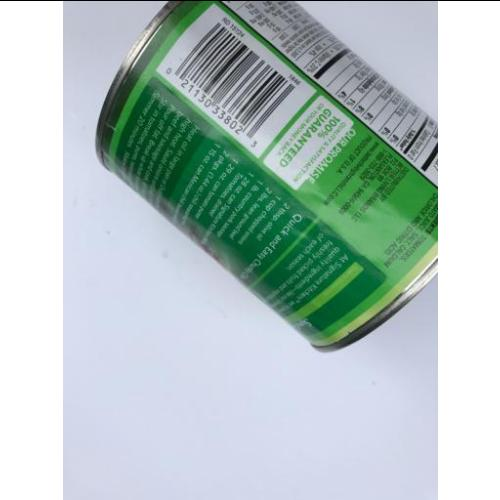metal: (96, 1, 438, 355)
